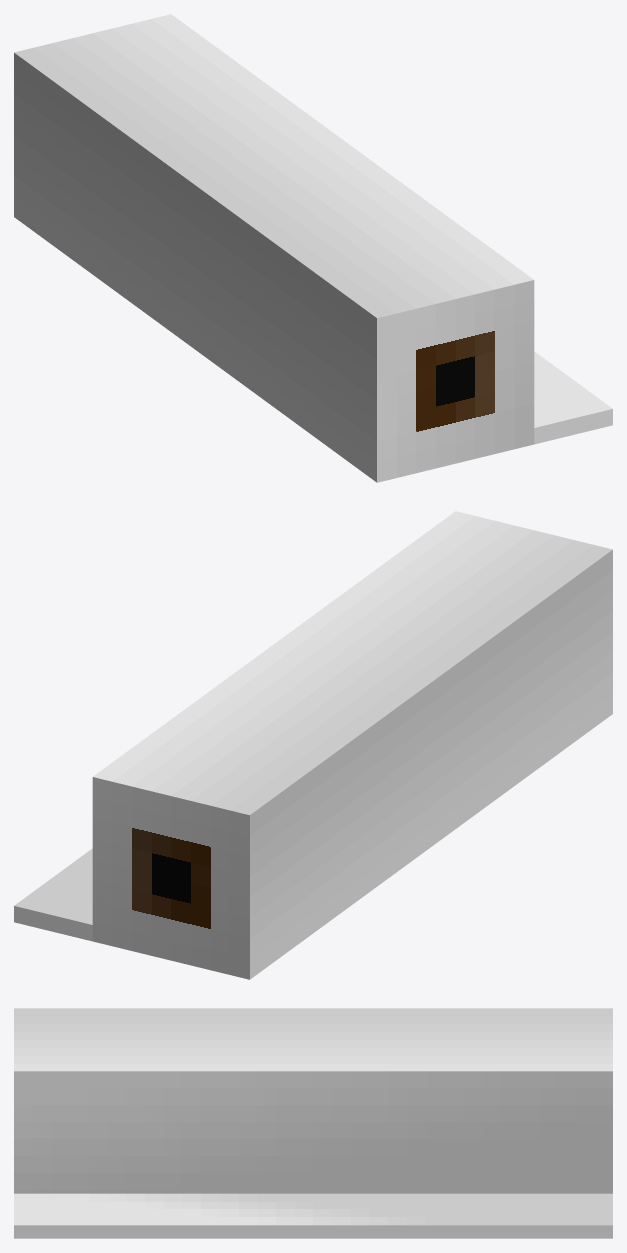
Rendered from bandaz.gltf.
The picture shows the model from 3 angles, top to bottom: view 1: azimuth 30°, elevation 25°; view 2: azimuth 150°, elevation 25°; view 3: azimuth 270°, elevation 25°; orthographic projection. The views are drawn at different scales.
Visible parts, largest first — view 1: cube (×2); view 2: cube (×2); view 3: cube (×2).
Boxes of the visible parts, x1,y1,x2,y2 form: cube (×2): (14, 14, 612, 482); cube (×2): (14, 511, 612, 979); cube (×2): (14, 1008, 612, 1238).
Size of the model in its own units: 0.1875 by 0.125 by 0.5.
1 material, 1 textured.
